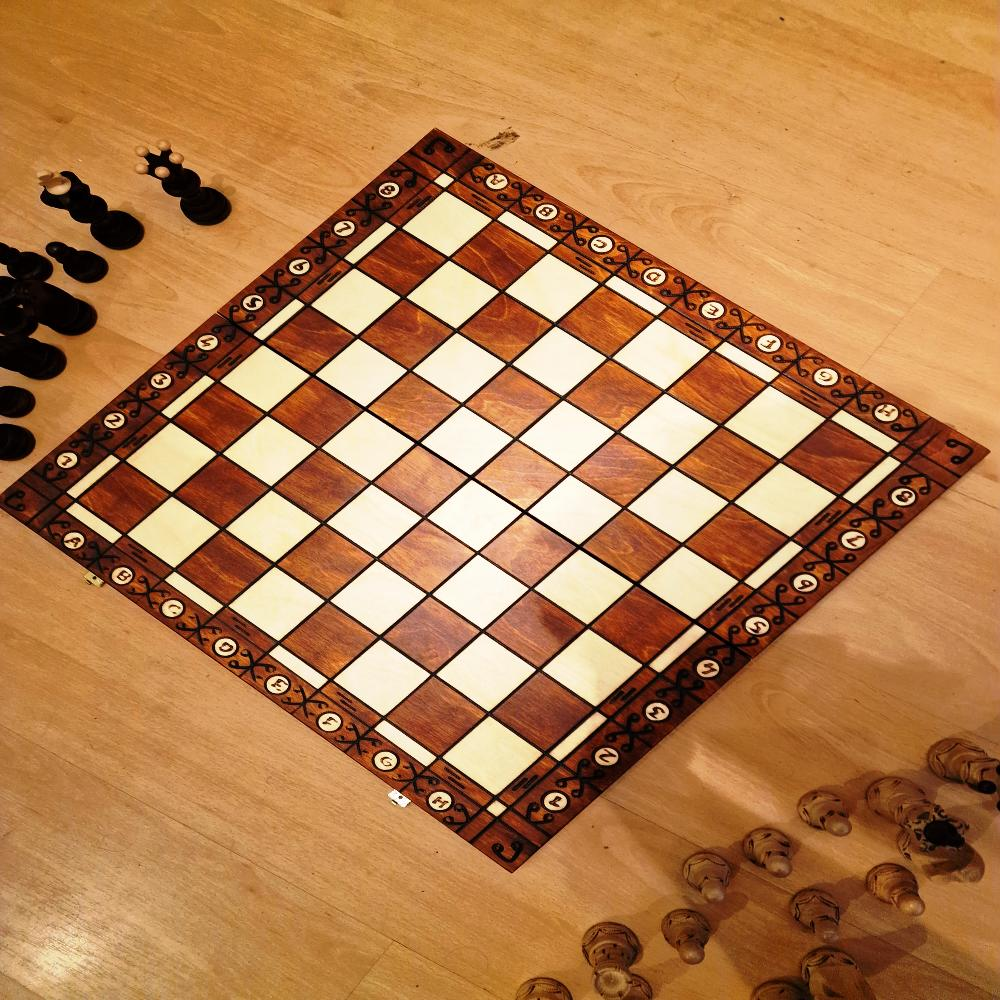chessfield: (491, 673, 598, 756), (385, 678, 490, 762), (541, 630, 647, 712), (435, 634, 541, 716), (486, 590, 590, 673), (440, 719, 544, 802), (591, 585, 696, 667), (684, 506, 791, 586), (732, 462, 840, 541), (782, 420, 888, 499), (530, 552, 635, 631), (626, 469, 728, 548), (636, 546, 739, 624), (332, 640, 432, 720), (673, 427, 778, 503), (723, 388, 827, 464), (432, 557, 532, 636), (382, 599, 482, 678), (279, 606, 379, 684), (329, 562, 429, 640), (571, 433, 671, 511), (378, 521, 478, 598), (578, 510, 679, 586), (277, 525, 376, 602), (227, 569, 327, 645), (563, 360, 663, 436), (224, 494, 324, 570), (324, 485, 424, 561), (176, 531, 274, 608), (558, 288, 656, 364), (481, 515, 580, 590), (427, 479, 526, 554), (667, 353, 767, 427), (618, 396, 718, 470), (463, 366, 562, 440), (516, 401, 615, 475), (126, 500, 221, 577), (174, 456, 270, 532), (612, 319, 710, 393), (274, 451, 372, 525), (376, 448, 472, 523), (524, 475, 622, 548), (322, 411, 418, 485), (358, 299, 453, 373), (222, 417, 318, 490), (457, 295, 554, 367), (503, 254, 601, 325), (510, 330, 608, 401), (411, 336, 506, 409), (368, 372, 463, 445), (417, 408, 513, 480), (269, 380, 365, 452), (451, 224, 547, 296), (471, 443, 567, 515), (312, 340, 408, 412), (403, 262, 500, 333), (76, 462, 169, 536), (125, 422, 218, 495), (173, 386, 267, 458), (262, 306, 354, 377), (308, 267, 401, 337), (219, 348, 313, 417), (354, 232, 448, 300), (402, 192, 493, 261)
